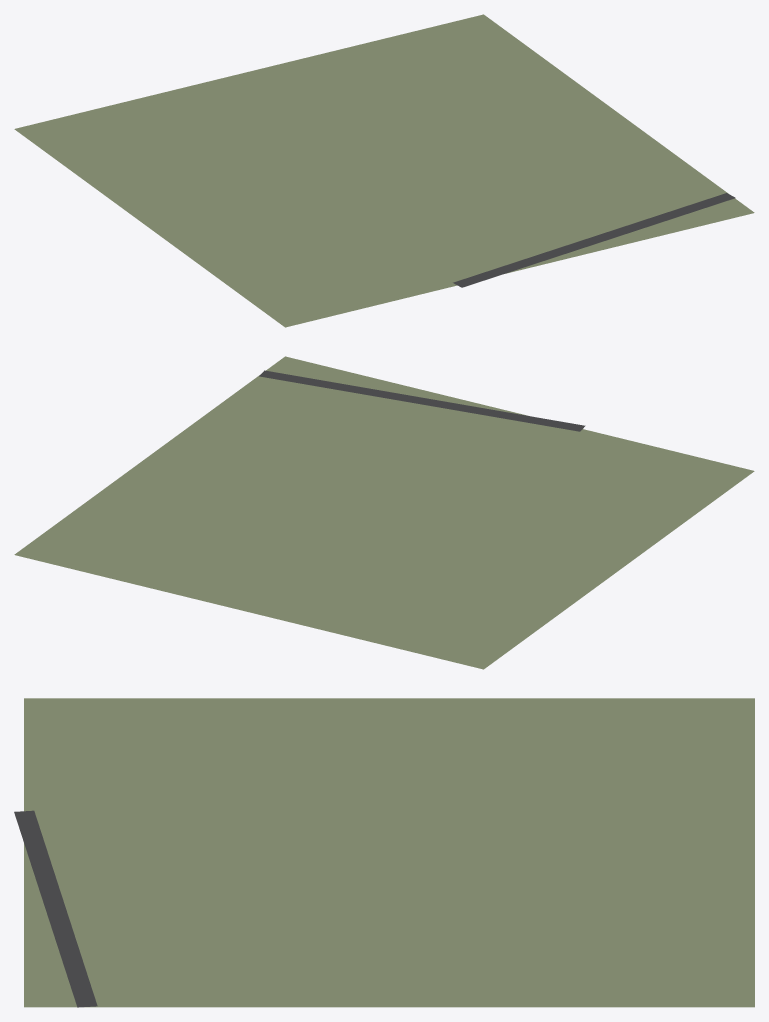
The picture shows the model from 3 angles, top to bottom: view 1: azimuth 30°, elevation 25°; view 2: azimuth 150°, elevation 25°; view 3: azimuth 270°, elevation 25°; orthographic projection. The views are drawn at different scales.
Visible parts, largest first — view 1: ground, road; view 2: ground, road; view 3: ground, road.
Part boxes in pixels (box(x1,y1,x2,y2)): ground: box(14, 14, 754, 327); road: box(453, 193, 735, 287); ground: box(14, 356, 754, 669); road: box(259, 370, 585, 431); ground: box(24, 698, 754, 1007); road: box(14, 810, 97, 1007).
Bounding box in the file's own units: 250 × 0.12 × 253.
